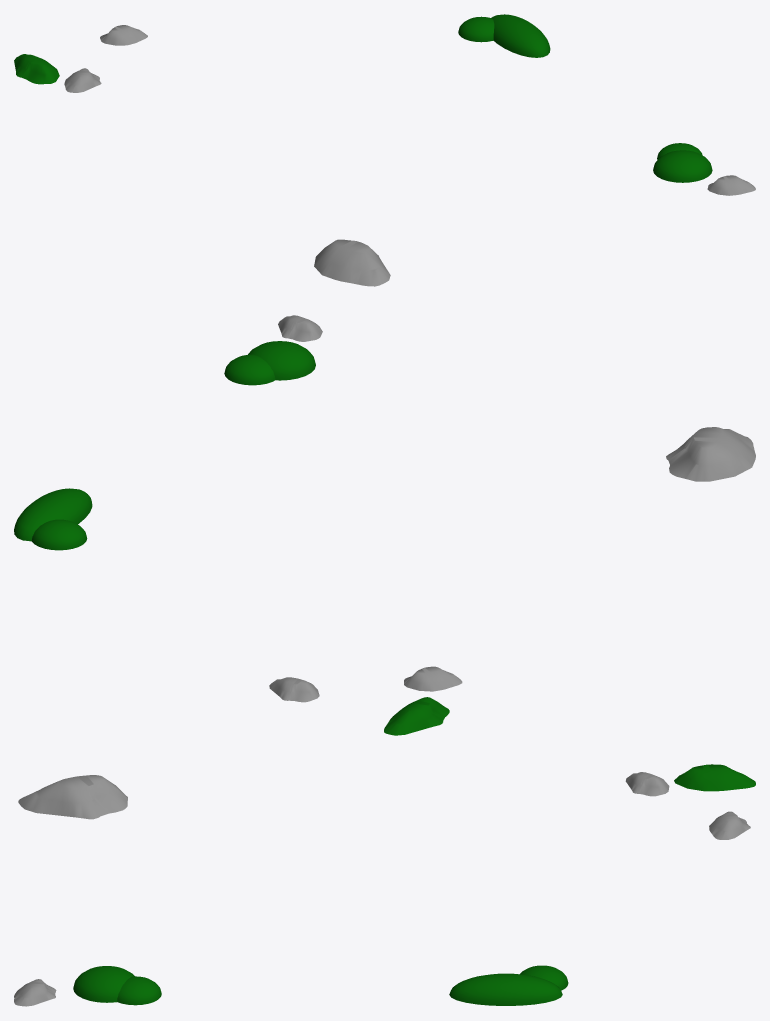
File: Land Clearing.dae
3 renders of one model, top to bottom at view 1: azimuth 30°, elevation 25°; view 2: azimuth 150°, elevation 25°; view 3: azimuth 270°, elevation 25°, orthographic. The views are drawn at different scales.
Visible parts, largest first — view 1: group_1 (×5), group_6, group_5, group_8; view 2: group_1 (×5), group_6, group_5, group_8, group_7; view 3: group_1 (×5), group_6, group_5, group_7, group_8.
Boxes of the visible parts, x1=… form: group_1 (×5): x1=14, y1=25, x2=755, y2=286; group_6: x1=491, y1=14, x2=550, y2=57; group_5: x1=653, y1=150, x2=712, y2=182; group_8: x1=458, y1=16, x2=494, y2=42; group_1 (×5): x1=269, y1=315, x2=755, y2=735; group_6: x1=14, y1=488, x2=92, y2=541; group_5: x1=248, y1=341, x2=315, y2=380; group_8: x1=31, y1=519, x2=87, y2=550; group_7: x1=224, y1=354, x2=275, y2=385; group_1 (×5): x1=14, y1=764, x2=755, y2=1006; group_6: x1=449, y1=973, x2=562, y2=1005; group_5: x1=73, y1=966, x2=134, y2=1002; group_7: x1=117, y1=976, x2=161, y2=1005; group_8: x1=520, y1=965, x2=568, y2=990.
Size of the model in its own units: 565 by 734 by 23.62.
